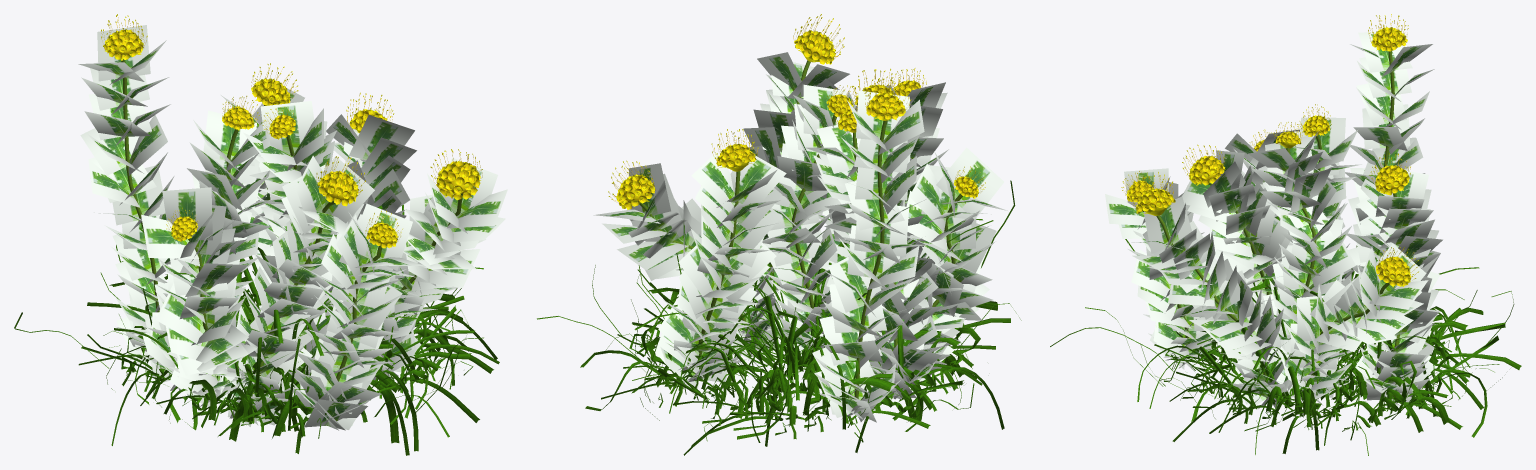
The model's file is Pincushion_Flower.fbx.
The picture shows the model from 3 angles, left to right: view 1: azimuth 30°, elevation 25°; view 2: azimuth 150°, elevation 25°; view 3: azimuth 270°, elevation 25°; orthographic projection. The views are drawn at different scales.
Visible parts, largest first — view 1: Leaf_2_yellow, L_B_2_yellow, F_Bud_F_Bud_BaseColor_yellow, Bark_yellow; view 2: Leaf_2_yellow, L_B_2_yellow, F_Bud_F_Bud_BaseColor_yellow, Bark_yellow; view 3: Leaf_2_yellow, L_B_2_yellow, F_Bud_F_Bud_BaseColor_yellow, Bark_yellow.
Part boxes in pixels (box(x1,y1,x2,y2)): Leaf_2_yellow: box(78, 25, 507, 430); L_B_2_yellow: box(14, 205, 499, 455); F_Bud_F_Bud_BaseColor_yellow: box(101, 14, 482, 248); Bark_yellow: box(121, 59, 462, 425); Leaf_2_yellow: box(593, 52, 1007, 422); L_B_2_yellow: box(537, 180, 1021, 455); F_Bud_F_Bud_BaseColor_yellow: box(608, 14, 985, 209); Bark_yellow: box(639, 60, 962, 398); Leaf_2_yellow: box(1105, 32, 1442, 409); L_B_2_yellow: box(1050, 217, 1521, 455); F_Bud_F_Bud_BaseColor_yellow: box(1121, 14, 1418, 287); Bark_yellow: box(1143, 51, 1399, 397).
Size of the model in its own units: 105 by 93.29 by 118.
Materials: 4 (4 with a texture image).
